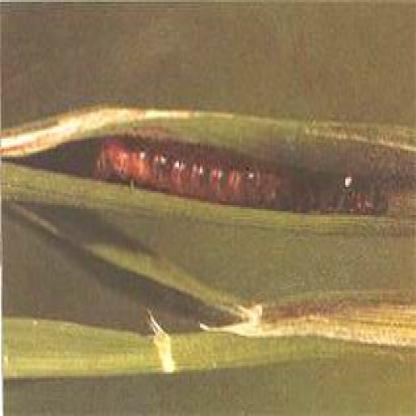leaf-folder: (75, 90, 386, 243)
